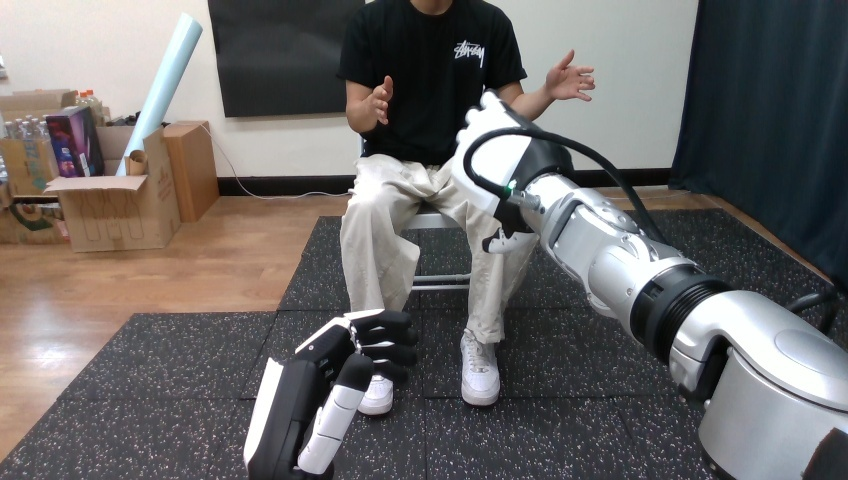left robot hand: (452, 92, 847, 478), (244, 309, 417, 479), (542, 50, 594, 103)
